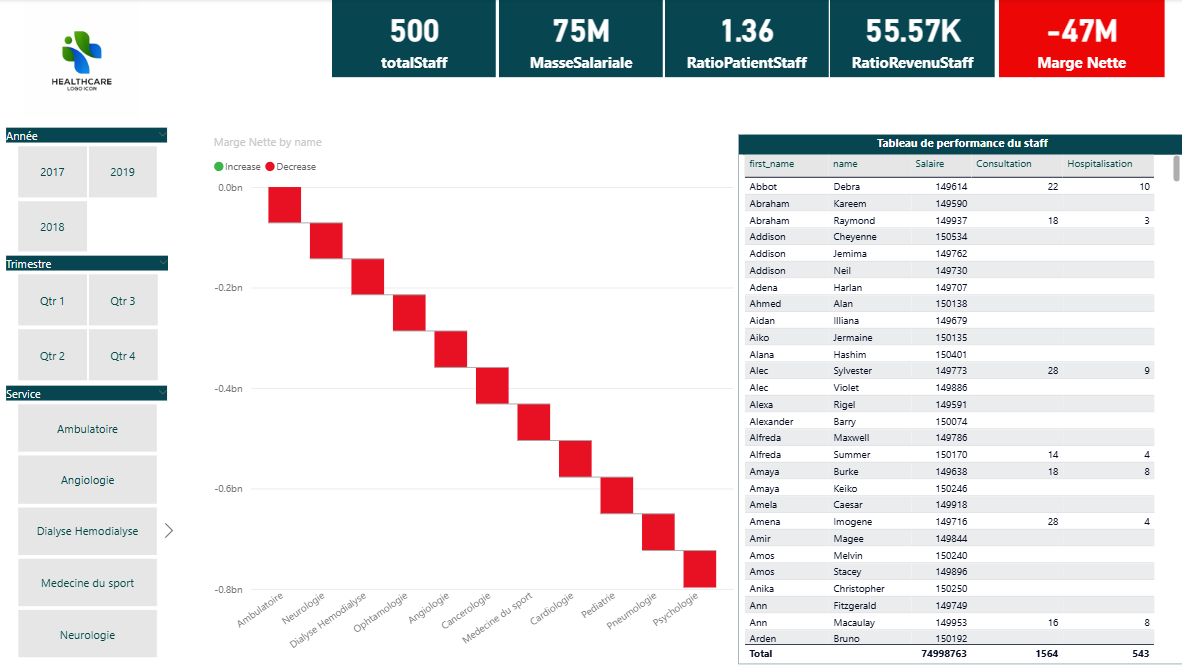

The dashboard page shown, as its layout file describes it:
{"tool":"powerbi","page":{"name":"Ressources Humaines & Finance","canvas":[1280,720],"ordinal":3},"visuals":[{"type":"card","fields":{"Values":["factTrackingConsultation.RatioPatientStaff"]},"box":[720.8,0,175.5,83.8],"z":1000},{"type":"card","fields":{"Values":["factTrackingConsultation.RatioRevenuStaff"]},"box":[899,0,177.3,83.8],"z":2000},{"type":"slicer","fields":{"Values":["DateTable.Date.Variation.Date Hierarchy.Quarter"]},"box":[0,271.1,199.6,146.1],"z":3000},{"type":"slicer","fields":{"Values":["DateTable.Date.Variation.Date Hierarchy.Year"]},"box":[0,133,199,145.1],"z":4000},{"type":"slicer","fields":{"Values":["dimService.name"]},"box":[0,410.2,199,304.4],"z":5000},{"type":"image","box":[0,0,188.5,133],"z":6000},{"type":"card","fields":{"Values":["factTrackingConsultation.MasseSalariale"]},"box":[542.6,0,176.4,83.8],"z":7000},{"type":"card","fields":{"Values":["factTrackingConsultation.totalStaff"]},"box":[363.5,0,176.4,83.8],"z":8000},{"type":"waterfallChart","fields":{"Y":["Operations.Marge Nette"],"Category":["dimService.name"]},"box":[231.1,145.1,568.5,569.6],"z":8001},{"type":"card","fields":{"Values":["Operations.Marge Nette"]},"box":[1080.1,0,177.5,84],"z":8002},{"type":"tableEx","title":"Tableau de performance du staff","fields":{"Values":["dimStaff.first_name","dimStaff.name","Sum(dimStaff.net_salary)","factTrackingConsultation.totalConsultation","factHospitalisation.totalHospitalisation"]},"box":[799.6,145.1,480.4,569.6],"z":8003}]}

Visuals, with their boxes in screenshot pixels (x1, y1, x2, y2), scaled from the page's 1280x720 canvas onto the 1182x665 screenshot:
card - factTrackingConsultation.RatioPatientStaff: 666:0:828:77
card - factTrackingConsultation.RatioRevenuStaff: 830:0:994:77
slicer - DateTable.Date.Variation.Date Hierarchy.Quarter: 0:250:184:385
slicer - DateTable.Date.Variation.Date Hierarchy.Year: 0:123:184:257
slicer - dimService.name: 0:379:184:660
image: 0:0:174:123
card - factTrackingConsultation.MasseSalariale: 501:0:664:77
card - factTrackingConsultation.totalStaff: 336:0:499:77
waterfallChart - Operations.Marge Nette x dimService.name: 213:134:738:660
card - Operations.Marge Nette: 997:0:1161:78
"Tableau de performance du staff" tableEx: 738:134:1181:660
